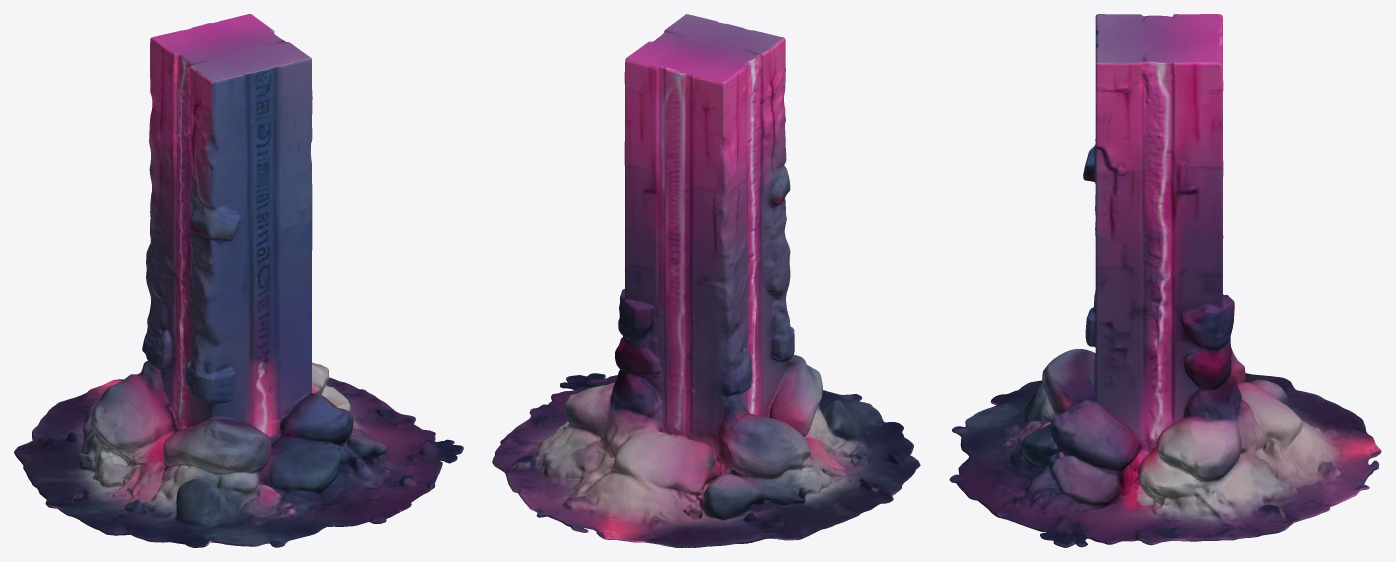
File: solitude-pillar-11-generated-2026-04-19T23-54-22-571Z.low.glb
3 renders of one model, left to right at view 1: azimuth 30°, elevation 25°; view 2: azimuth 150°, elevation 25°; view 3: azimuth 270°, elevation 25°, orthographic. The views are drawn at different scales.
Parts seen in each view (by area): view 1: temp_mesh.ply; view 2: temp_mesh.ply; view 3: temp_mesh.ply.
Boxes of the visible parts, bbox=[...] form: temp_mesh.ply: bbox=[14, 14, 463, 547]; temp_mesh.ply: bbox=[492, 14, 920, 547]; temp_mesh.ply: bbox=[949, 14, 1381, 547].
Size of the model in its own units: 1.86 by 1.97 by 1.84.
Materials: 1 (1 with a texture image).
